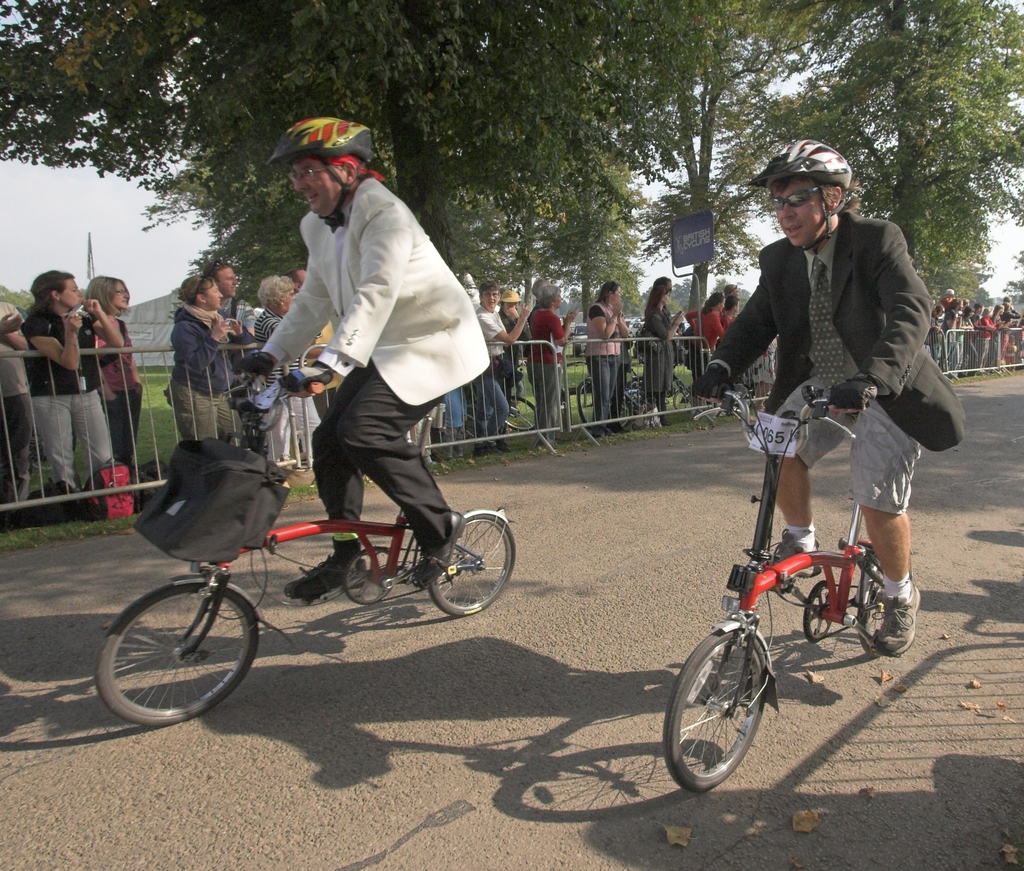Footwear: (283, 543, 374, 597), (416, 507, 467, 587), (874, 579, 921, 660), (755, 539, 825, 585), (59, 482, 93, 519), (5, 504, 41, 534), (431, 428, 446, 459), (476, 436, 497, 457), (586, 422, 607, 436), (610, 418, 631, 432), (497, 432, 509, 453), (532, 431, 547, 446), (658, 407, 667, 428), (650, 412, 655, 427)
